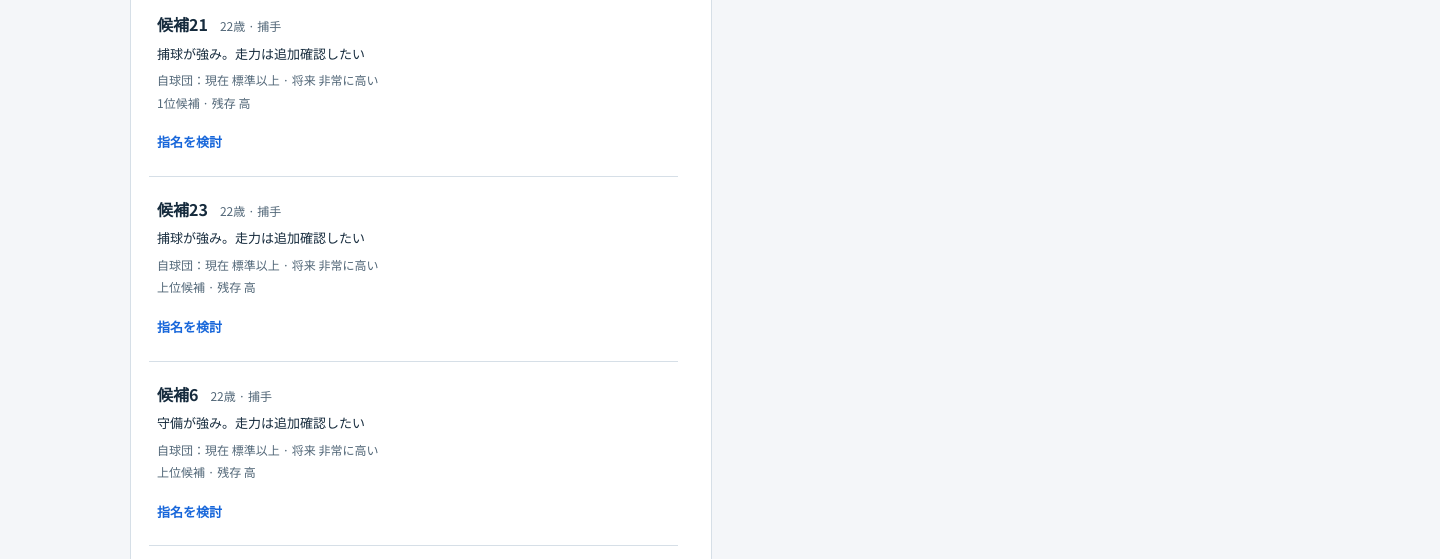
Scenario: compares two reports and scouts once without refilling legacy points
(page scrolled)
Click the button with aria-label "候補23のレポート". click: [182, 209]
box: [149,189,678,305]
(page scrolled)
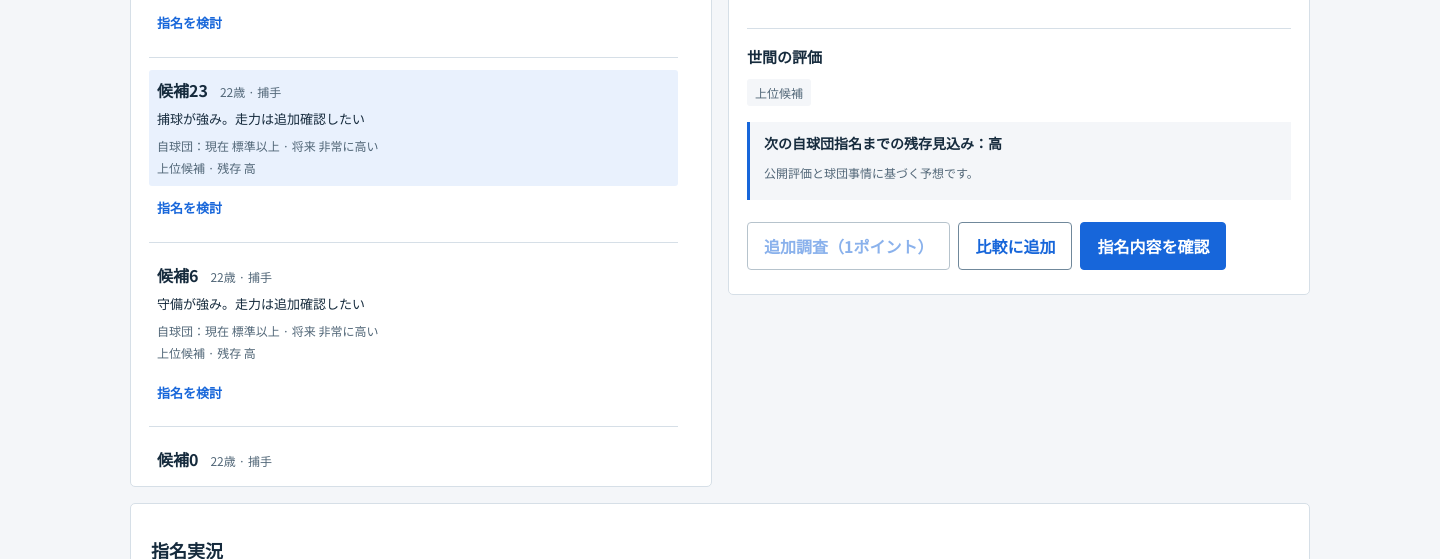
Expected: the button "追加調査（1ポイント）" is disabled, [747,222,950,270]
Click the button "比較に追加". click: [1016, 246]
box: [958,222,1072,270]
(page scrolled)
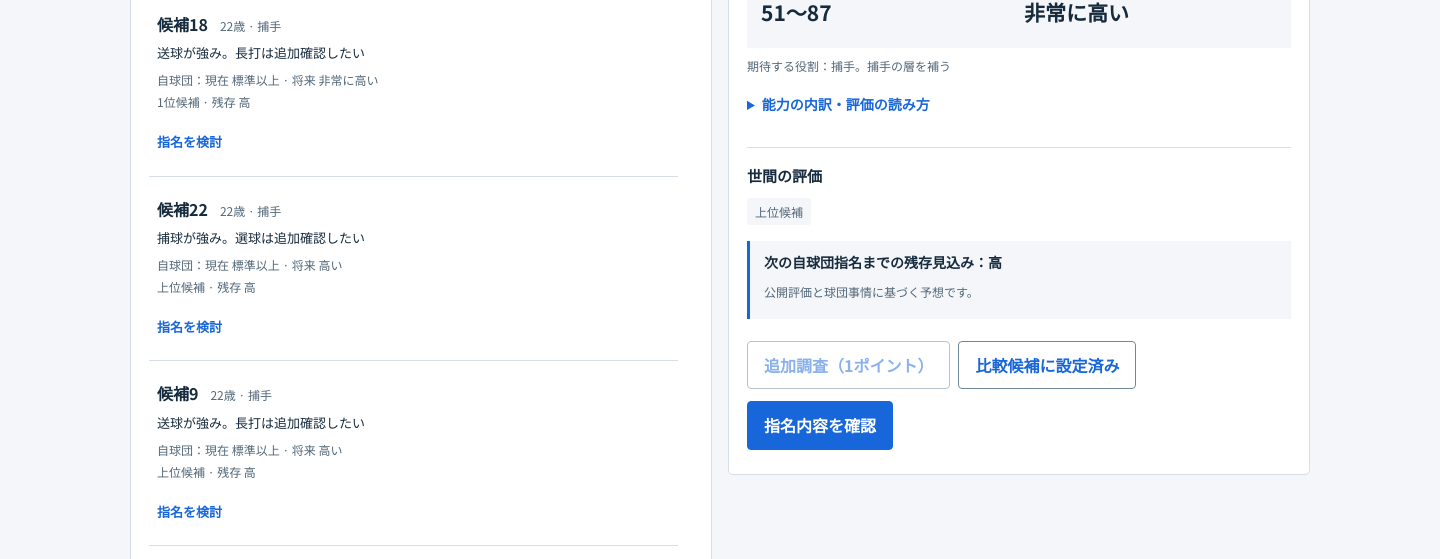
Click the button with aria-label "候補22のレポート". click: [182, 209]
box: [149,189,678,304]
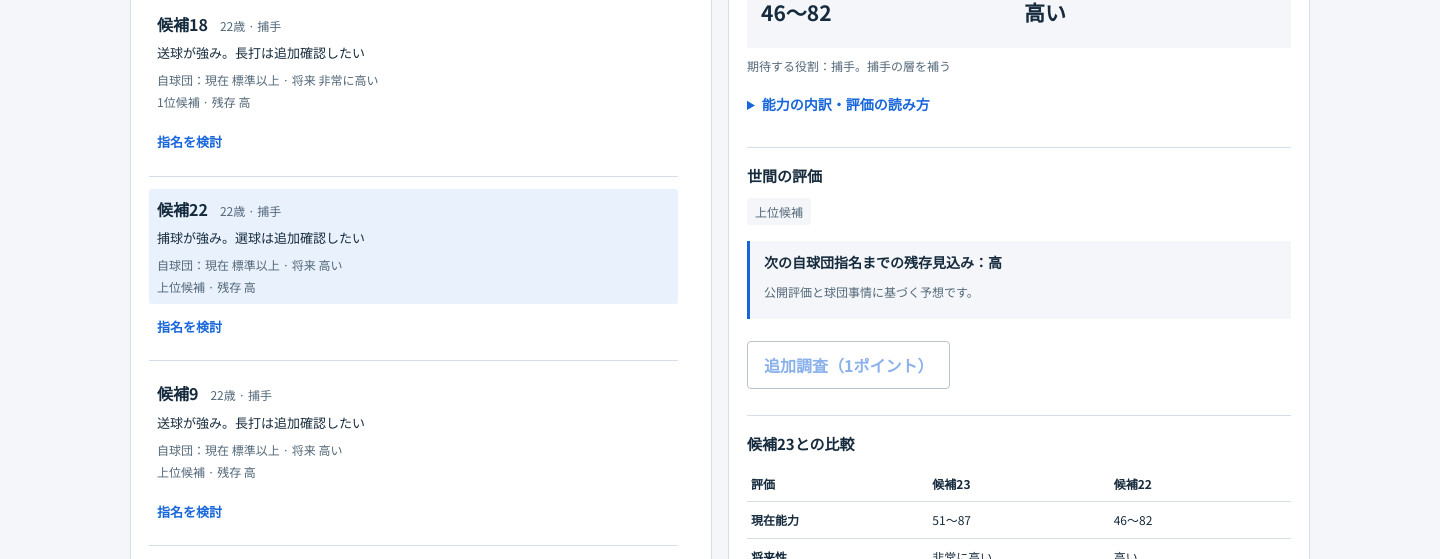
Expected: the text "候補23との比較" is shown, [747,433,855,454]
